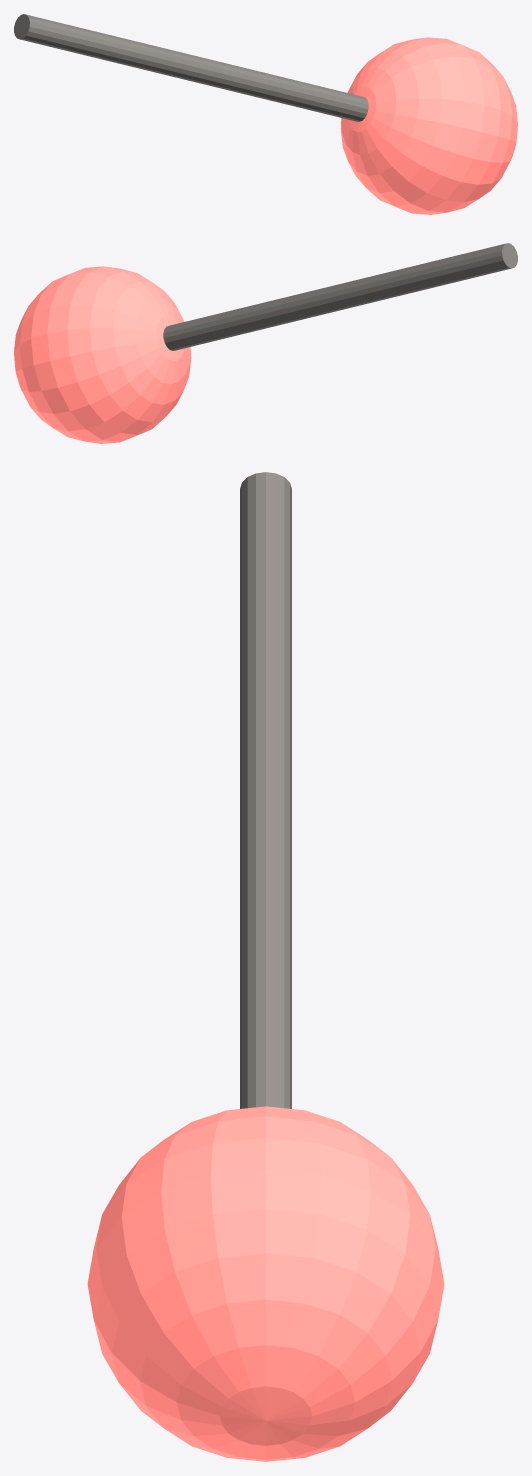
Rendered from pendel.glb.
The picture shows the model from 3 angles, top to bottom: view 1: azimuth 30°, elevation 25°; view 2: azimuth 150°, elevation 25°; view 3: azimuth 270°, elevation 25°; orthographic projection. The views are drawn at different scales.
Visible parts, largest first — view 1: Pendel; view 2: Pendel; view 3: Pendel.
Boxes of the visible parts, x1,y1,x2,y2 form: Pendel: (14, 14, 517, 214); Pendel: (14, 243, 517, 443); Pendel: (87, 472, 444, 1461).
Bounding box in the file's own units: 3.48 × 1.97 × 1.1.
